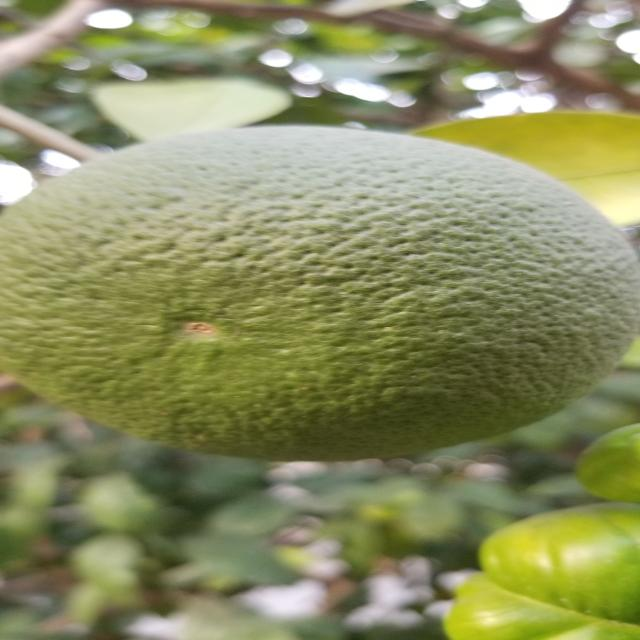Unripe: (4, 124, 634, 462)
